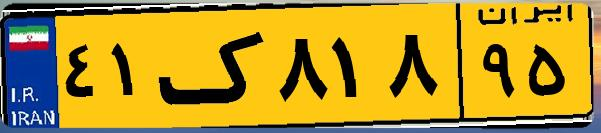1: (330, 28, 385, 110), (110, 28, 158, 98)
4: (57, 26, 110, 100)
5: (525, 38, 570, 115)
8: (270, 28, 330, 110), (385, 28, 445, 110)
9: (475, 38, 525, 113)
ک: (158, 12, 270, 120)
